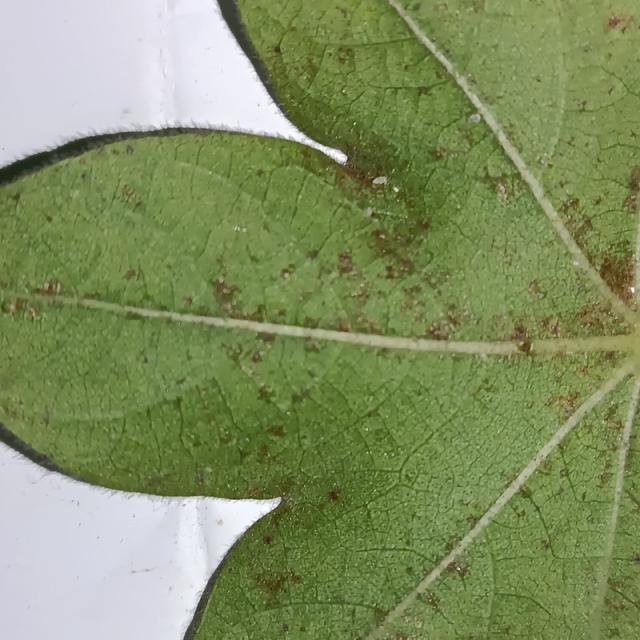Bacterial_Blight: (366, 221, 425, 278), (270, 494, 348, 537), (567, 297, 628, 342), (487, 592, 561, 629), (565, 61, 624, 107), (594, 249, 638, 309), (208, 275, 246, 317), (588, 130, 640, 159), (254, 572, 298, 605), (606, 573, 637, 605), (545, 391, 580, 418), (621, 171, 640, 213), (427, 317, 459, 341), (274, 259, 299, 286), (269, 503, 292, 530), (9, 185, 29, 214), (323, 480, 345, 506), (607, 13, 635, 33), (444, 560, 468, 580), (120, 184, 140, 207), (290, 387, 313, 405), (526, 279, 546, 299), (39, 279, 61, 297), (337, 251, 354, 274), (255, 330, 277, 347), (337, 46, 355, 66), (425, 591, 442, 612), (516, 339, 533, 356), (257, 385, 274, 401), (303, 339, 322, 353), (495, 182, 508, 202), (465, 514, 481, 530), (512, 324, 528, 340), (267, 424, 286, 437), (537, 154, 553, 168), (122, 268, 139, 281), (519, 485, 533, 499), (403, 468, 417, 482), (131, 567, 159, 574), (417, 85, 433, 97), (42, 406, 51, 427), (539, 535, 550, 552), (384, 265, 397, 279), (305, 248, 319, 261), (258, 444, 270, 459), (251, 350, 263, 363), (247, 486, 260, 498), (607, 16, 620, 28), (288, 573, 302, 584), (192, 589, 204, 601), (372, 176, 387, 185), (7, 302, 17, 314), (468, 113, 480, 123), (28, 307, 37, 320), (183, 295, 193, 306), (462, 495, 472, 505), (405, 566, 414, 576), (273, 44, 282, 54), (263, 535, 272, 545), (126, 144, 134, 155), (414, 620, 423, 629), (43, 281, 51, 291), (141, 355, 149, 364), (204, 466, 213, 474), (365, 207, 373, 216), (282, 623, 289, 633), (217, 276, 225, 284), (517, 340, 525, 348), (221, 287, 230, 294), (122, 108, 131, 115), (379, 233, 386, 240), (573, 260, 580, 267), (635, 553, 640, 562), (217, 519, 223, 526), (341, 88, 347, 94), (168, 586, 173, 593), (352, 121, 357, 126), (364, 427, 369, 432)
Cotton: (0, 0, 627, 340), (0, 300, 624, 639), (402, 0, 639, 291), (383, 382, 630, 639)
